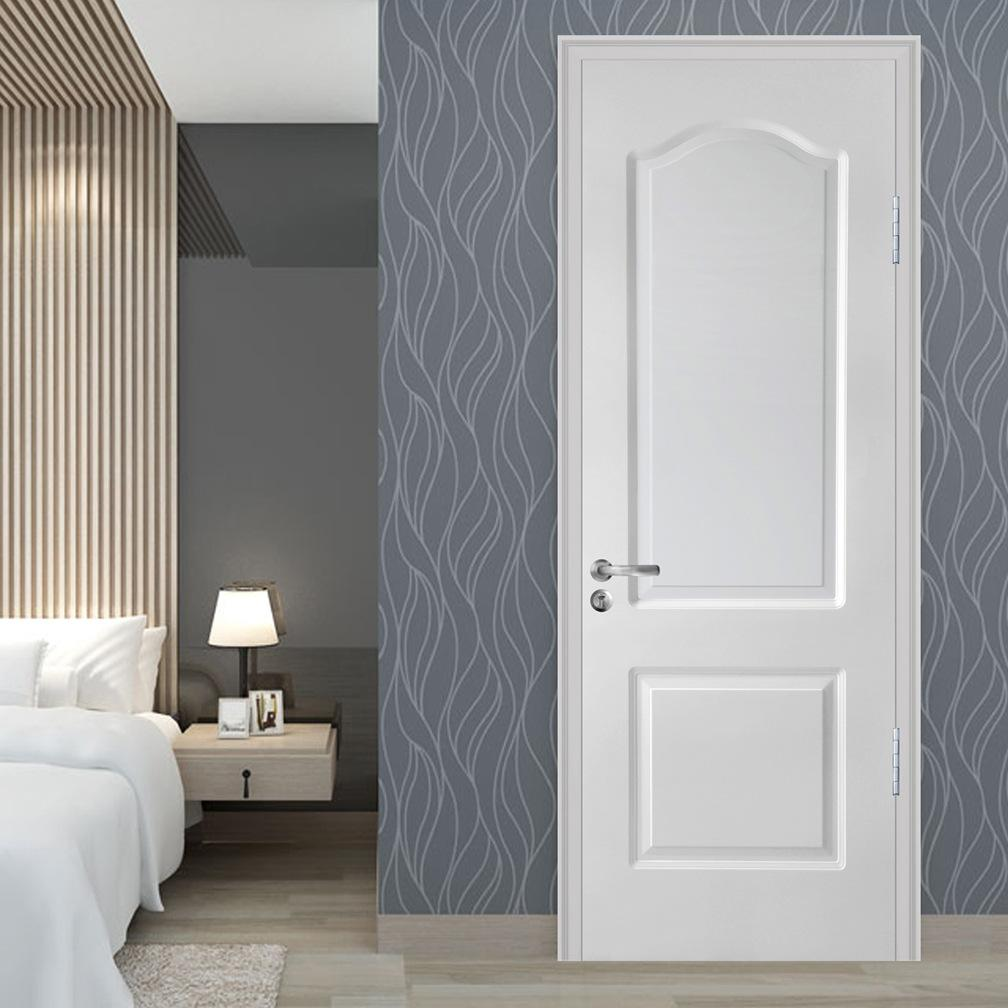door: (579, 55, 898, 952)
